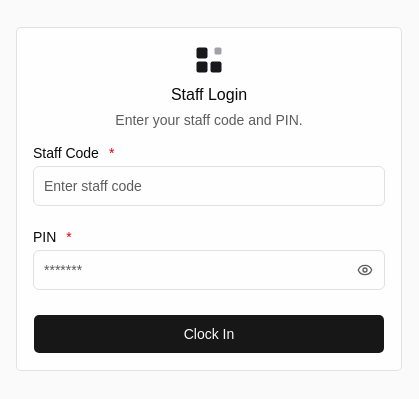
Test: StaffLoginPage › rejects a PIN that is not exactly six digits
In the field with placeholder "Enter staff code": coordinates (209, 186) [34,166,384,206], type "STAFF01"
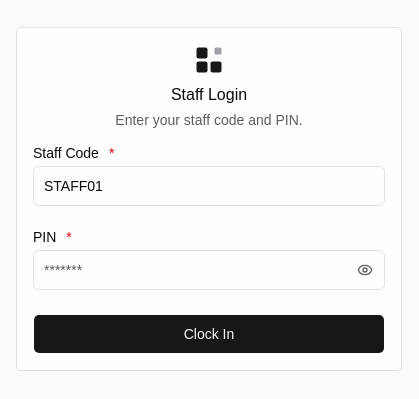
In the password field labelled "PIN": coordinates (191, 270) [34,250,349,290], type "12"
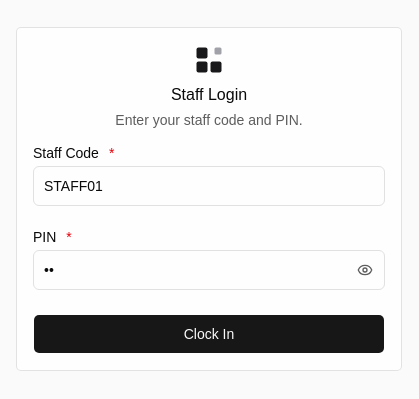
Click the button "Clock In": coordinates (209, 334) [33,314,385,354]
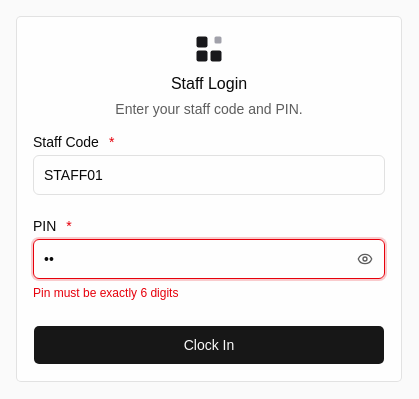
Expected: the text "Pin must be exactly 6 digits" is shown, [33,286,178,300]
